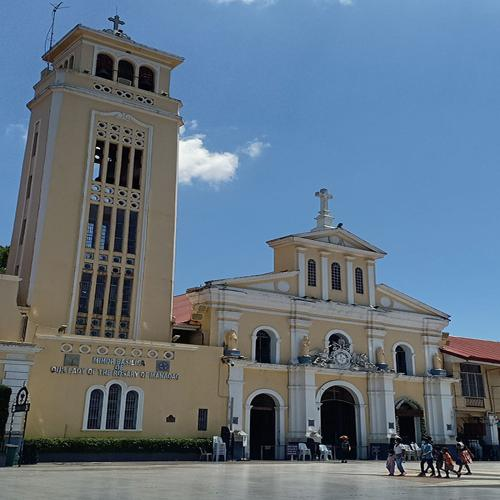Manaoag Church: (24, 11, 452, 470)
